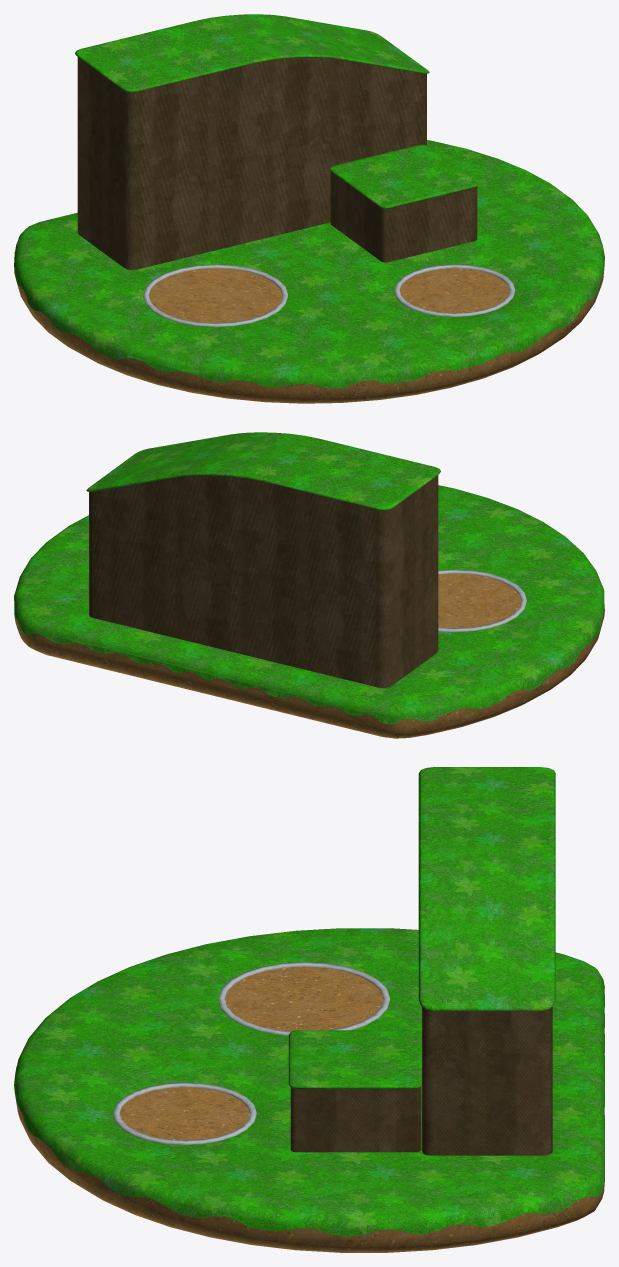
The model's file is HikeGardenKinokoTrampolineTutorialPlanet.fbx.
The picture shows the model from 3 angles, top to bottom: view 1: azimuth 30°, elevation 25°; view 2: azimuth 150°, elevation 25°; view 3: azimuth 270°, elevation 25°; orthographic projection. The views are drawn at different scales.
Parts seen in each view (by area): view 1: Plane.002, Plane.001, Plane.003, Plane.000; view 2: Plane.001, Plane.002, Plane.003, Plane.000; view 3: Plane.002, Plane.001, Plane.003, Plane.000.
Boxes of the visible parts, x1,y1,x2,y2 form: Plane.002: (14, 14, 604, 388); Plane.001: (77, 57, 477, 269); Plane.003: (14, 268, 603, 403); Plane.000: (143, 264, 515, 326); Plane.001: (89, 475, 438, 687); Plane.002: (14, 432, 604, 724); Plane.003: (14, 573, 604, 738); Plane.000: (438, 569, 526, 632); Plane.002: (14, 767, 604, 1236); Plane.001: (290, 1007, 552, 1155); Plane.003: (14, 966, 604, 1252); Plane.000: (113, 962, 390, 1144).
Size of the model in its own units: 399357 by 159355 by 336580.
4 materials, 4 textured.
